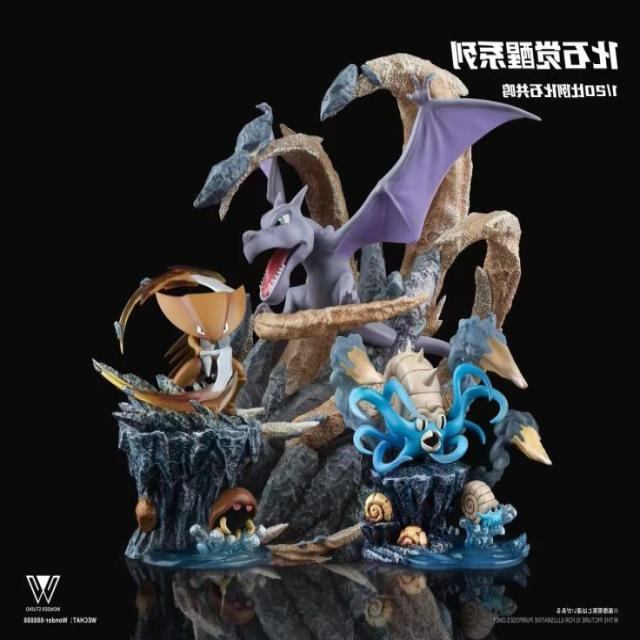Aerodactyl: (241, 158, 424, 309)
Kabutops: (151, 274, 250, 414)
Kakuna: (208, 486, 264, 538)
Omanyte: (460, 476, 512, 548)
Omastar: (355, 344, 476, 471)
